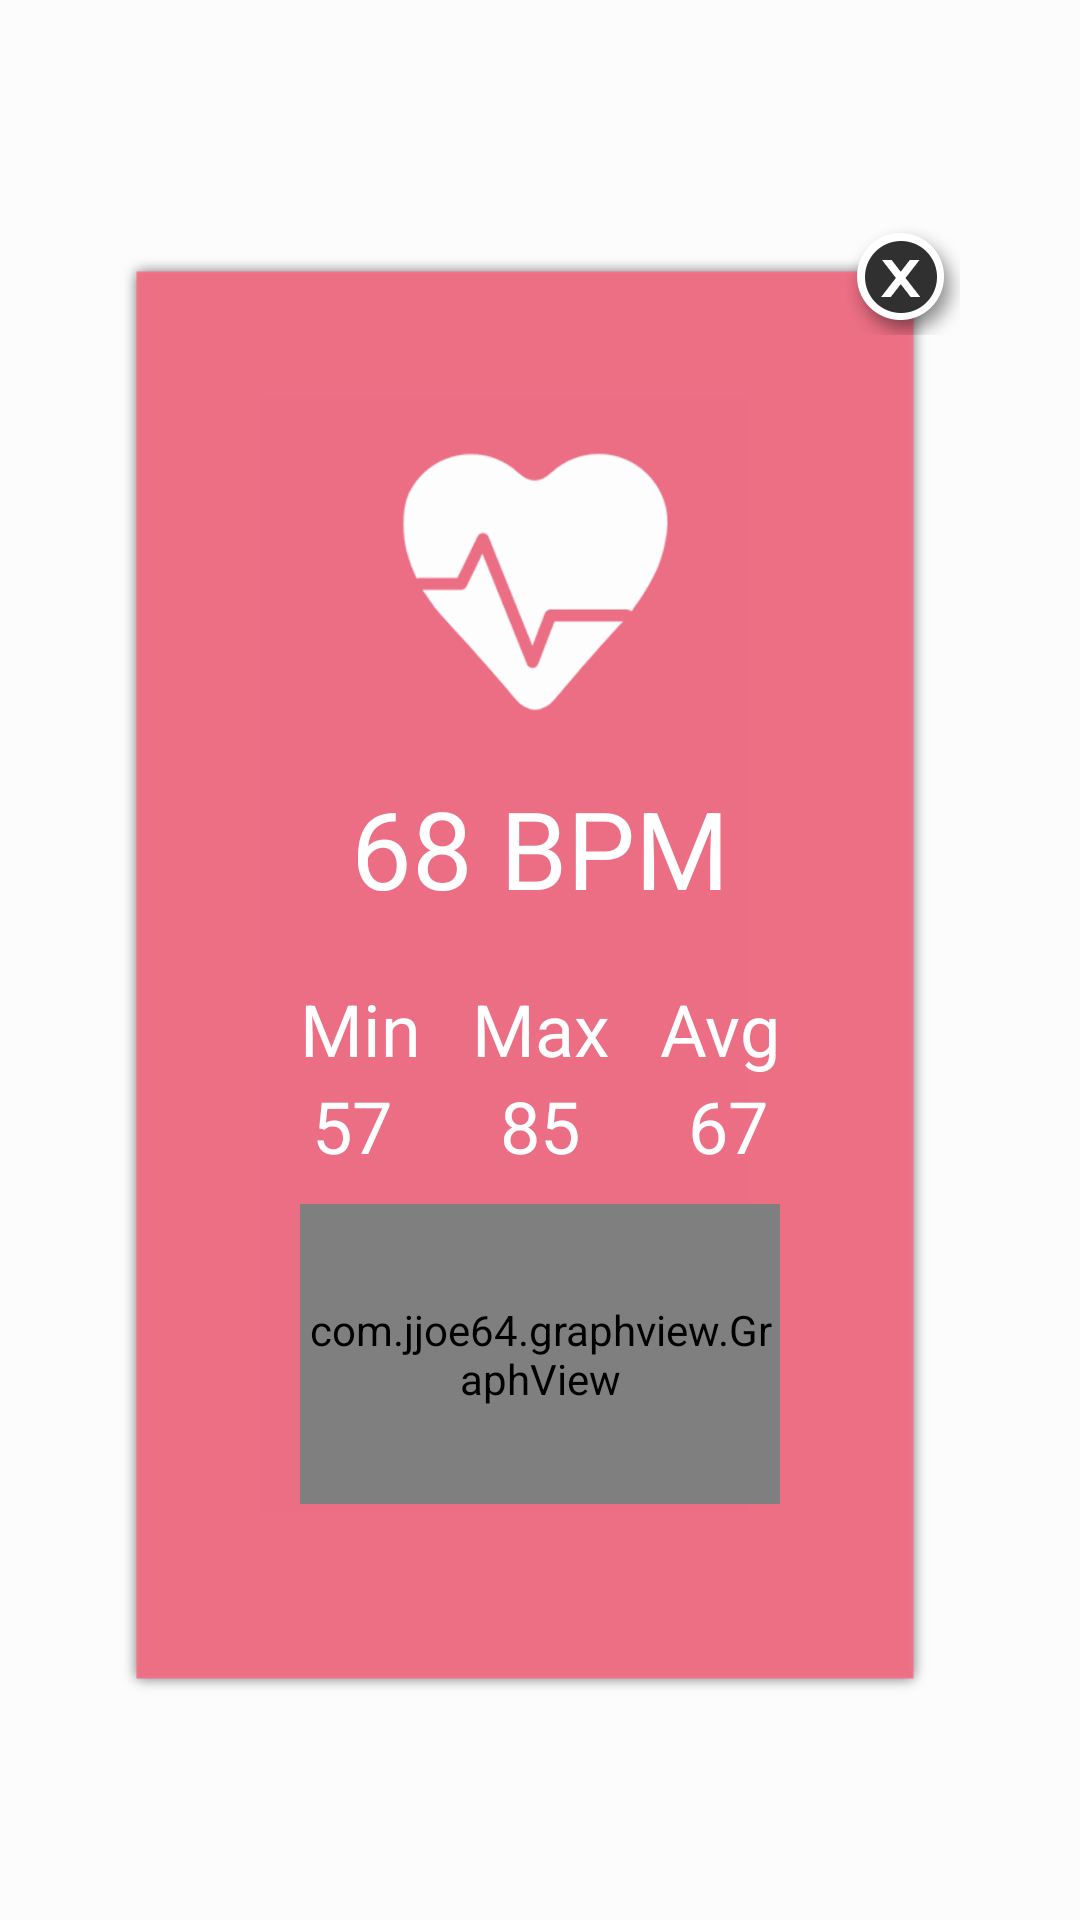

Icons on this 1080w x 1920h Android screen, each with the point to tap as point (x, y):
heart: point (535, 581)
